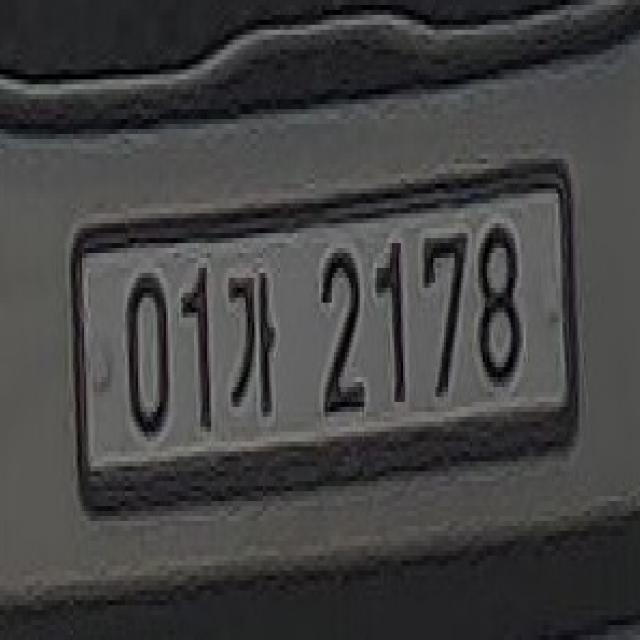0: (120, 248, 173, 448)
1: (368, 225, 411, 416), (178, 254, 216, 436)
2: (317, 240, 364, 421)
7: (418, 216, 473, 407)
8: (476, 209, 524, 396)
ga: (223, 253, 284, 430)
license_plate: (60, 154, 587, 525)
